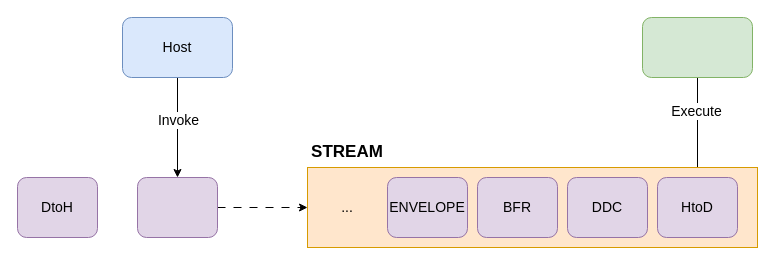
The diagram is 775 pixels wide and 265 high, and some of its shapes have lost their labels. The centre of each missing label's shape, as x and y in pixels:
GPU: point 697,47
LOG: point 177,207
